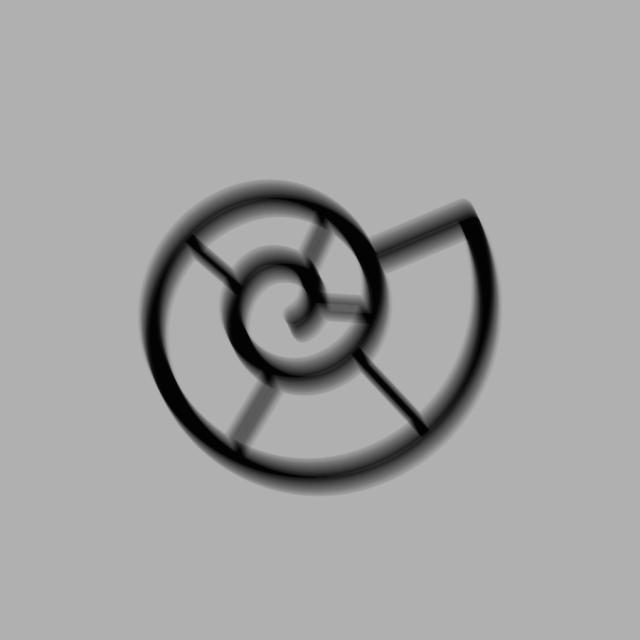fossil: (132, 173, 510, 507)
